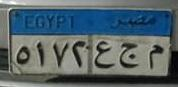1: (35, 40, 47, 67)
2: (72, 40, 88, 70)
5: (14, 44, 33, 69)
7: (51, 40, 69, 70)
ain: (94, 40, 115, 71)
jeem: (117, 39, 140, 72)
meem: (146, 39, 165, 72)
